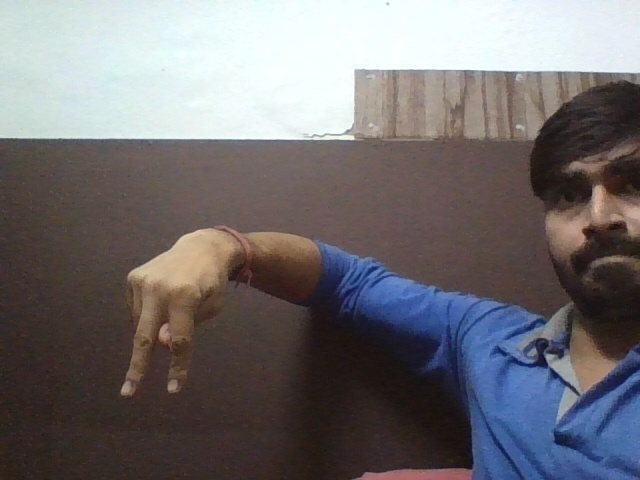P: (100, 231, 266, 412)
